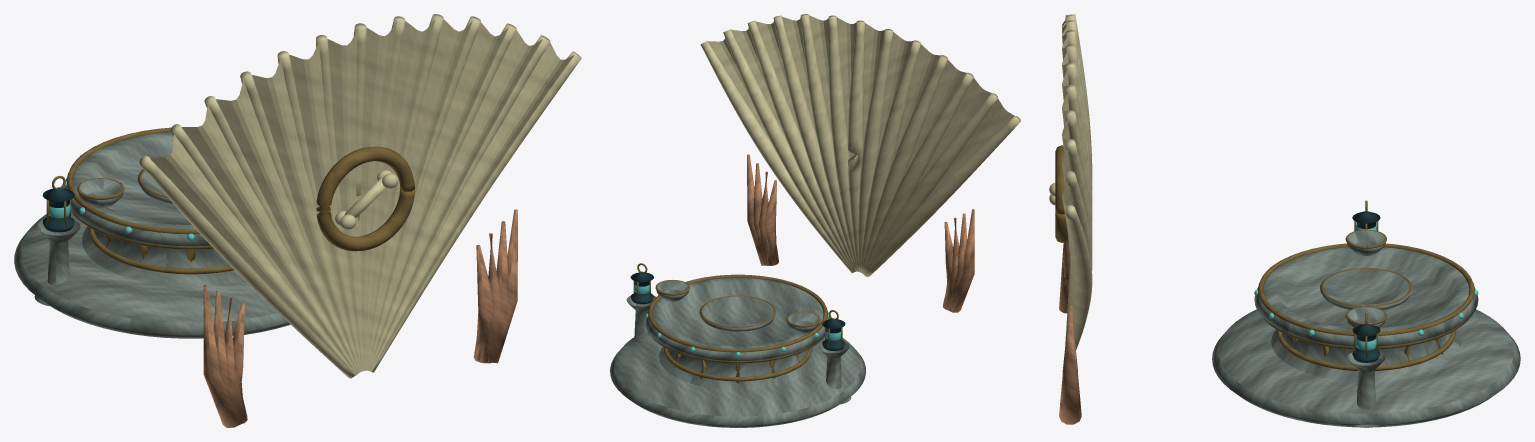
Rendered from Summer_Fusion.fbx.
3 renders of one model, left to right at view 1: azimuth 30°, elevation 25°; view 2: azimuth 150°, elevation 25°; view 3: azimuth 270°, elevation 25°, orthographic. The views are drawn at different scales.
Parts seen in each view (by area): view 1: Summer_Fusion_Ivory, Summer_Fusion_Stone, Summer_Fusion_Accent, Summer_Fusion_Metal, Summer_Fusion_Iron; view 2: Summer_Fusion_Ivory, Summer_Fusion_Stone, Summer_Fusion_Accent, Summer_Fusion_Metal, Summer_Fusion_Iron; view 3: Summer_Fusion_Stone, Summer_Fusion_Ivory, Summer_Fusion_Metal, Summer_Fusion_Accent, Summer_Fusion_Iron.
Part boxes in pixels (left/top/right/bottom): Summer_Fusion_Ivory: left=139, top=14, right=581, bottom=378; Summer_Fusion_Stone: left=14, top=132, right=290, bottom=338; Summer_Fusion_Accent: left=203, top=209, right=517, bottom=427; Summer_Fusion_Metal: left=46, top=127, right=414, bottom=274; Summer_Fusion_Iron: left=42, top=187, right=74, bottom=232; Summer_Fusion_Ivory: left=700, top=14, right=1020, bottom=276; Summer_Fusion_Stone: left=610, top=277, right=865, bottom=427; Summer_Fusion_Accent: left=747, top=154, right=974, bottom=312; Summer_Fusion_Metal: left=633, top=263, right=842, bottom=383; Summer_Fusion_Iron: left=630, top=271, right=845, bottom=350; Summer_Fusion_Stone: left=1212, top=230, right=1520, bottom=427; Summer_Fusion_Ivory: left=1049, top=14, right=1092, bottom=349; Summer_Fusion_Metal: left=1055, top=145, right=1474, bottom=370; Summer_Fusion_Accent: left=1059, top=238, right=1081, bottom=424; Summer_Fusion_Iron: left=1352, top=211, right=1380, bottom=362.
Bounding box in the file's own units: 10.5 × 8.37 × 11.15.
